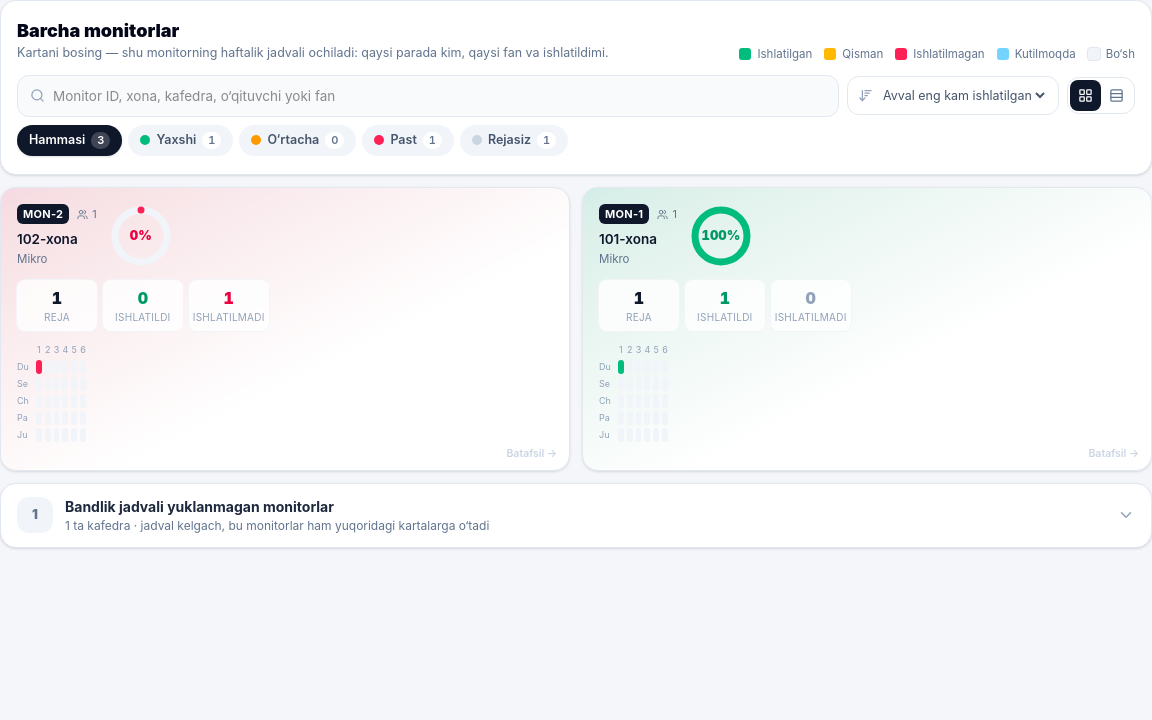
Test: MonitorExplorer › opens the weekly schedule of a monitor
The width and height of the screenshot is (1152, 720).
Click the text "102-xona".
click(47, 239)  # box [17,231,78,247]
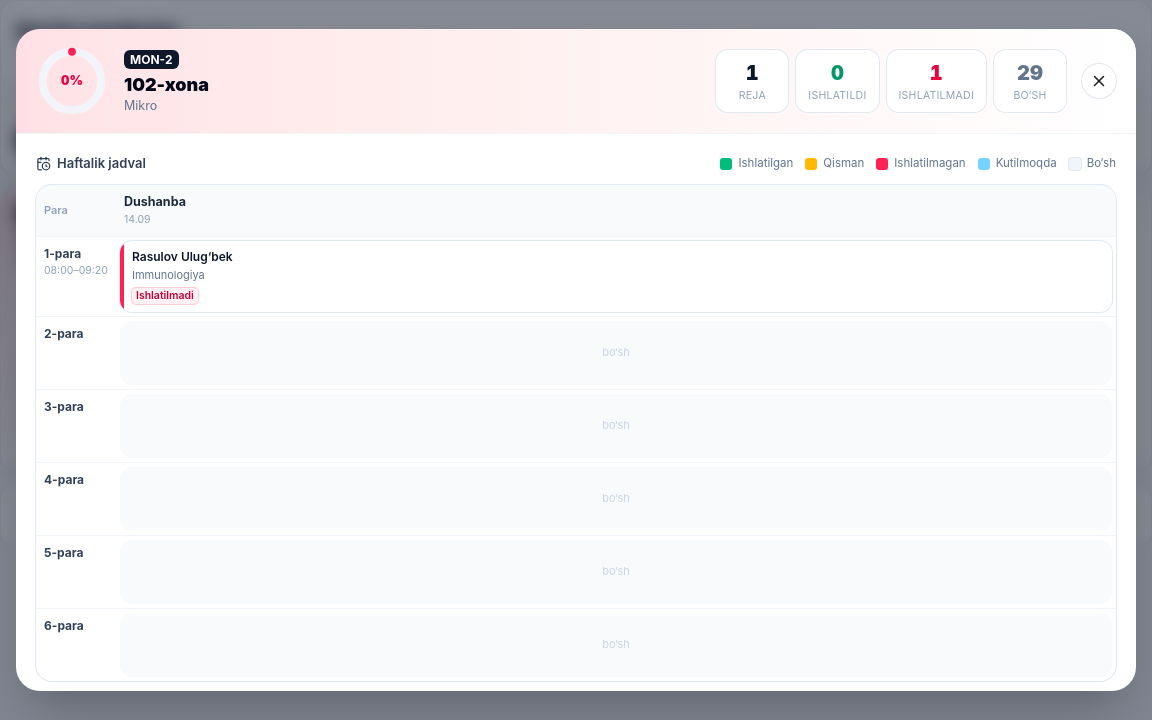
Result: the dialog is shown
Result: the text "Rasulov Ulug‘bek" is shown at [132,249,233,264]
Result: the text "Ishlatilmadi" below "Immunologiya" is shown at [136,289,194,302]
